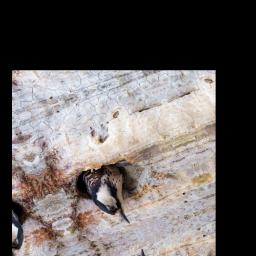Woodpecker: (77, 161, 145, 233)
